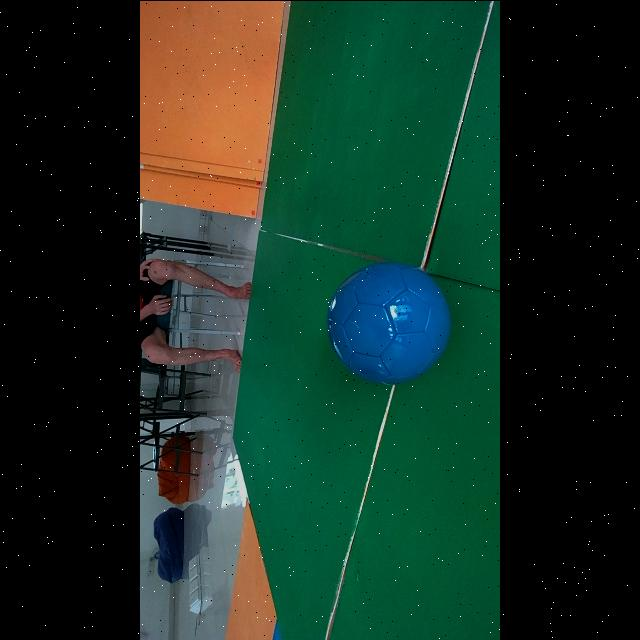B: (328, 262, 450, 384)
